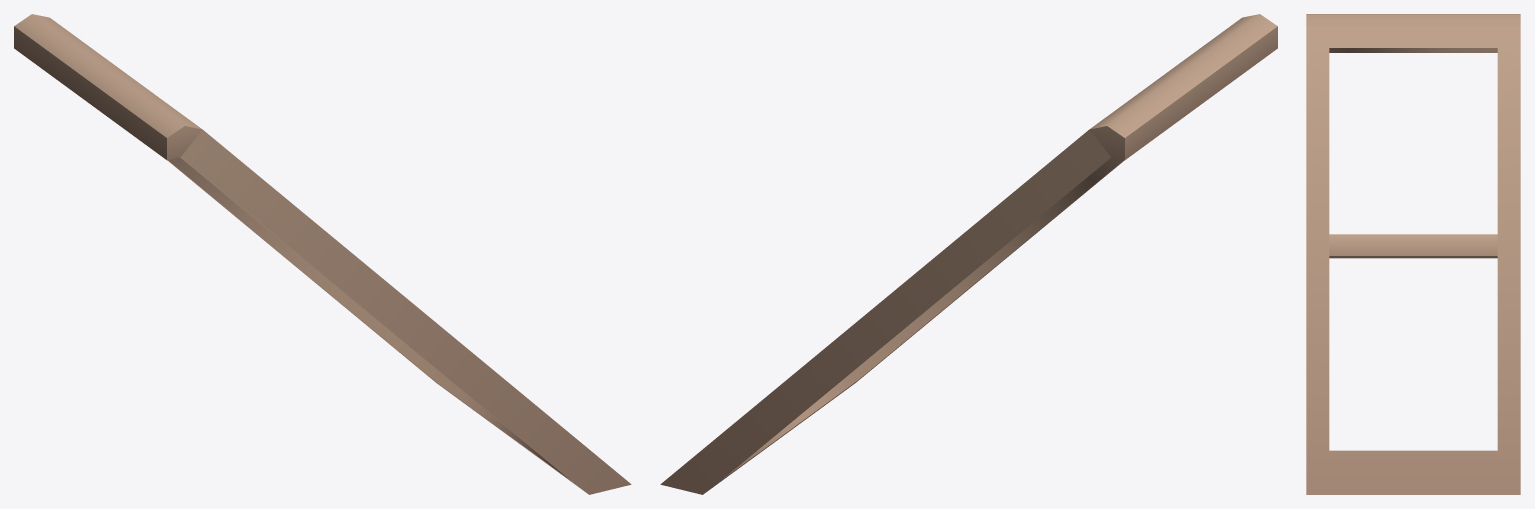
File: roof-window-single.glb
3 views of the same model, side by side, from view 1: azimuth 30°, elevation 25°; view 2: azimuth 150°, elevation 25°; view 3: azimuth 270°, elevation 25° (orthographic). The views are drawn at different scales.
Visible parts, largest first — view 1: roof-window-single; view 2: roof-window-single; view 3: roof-window-single.
Boxes of the visible parts, x1,y1,x2,y2 form: roof-window-single: (14,14,631,494); roof-window-single: (660,14,1277,494); roof-window-single: (1306,14,1520,494).
Size of the model in its own units: 1.64 by 1.58 by 0.9333.
